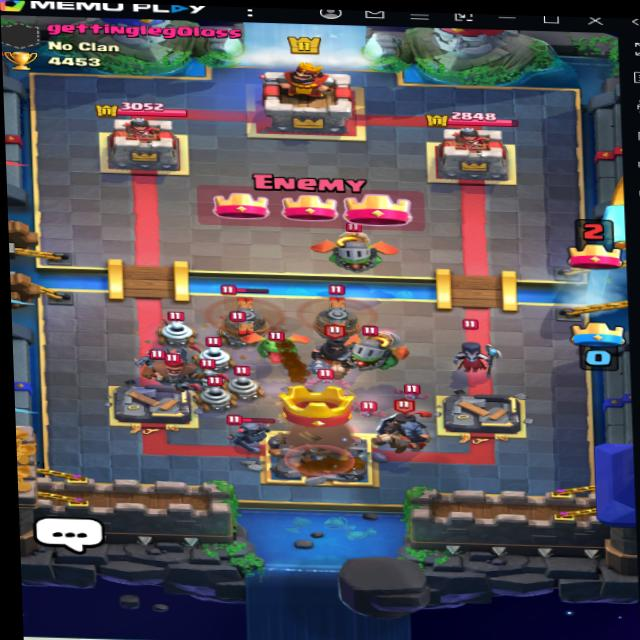baby-dragon: (243, 327, 317, 364)
bats: (348, 390, 384, 418), (306, 373, 340, 393), (391, 386, 426, 403)
dark-prince: (372, 399, 444, 457), (305, 323, 372, 372)
flying-machine: (195, 287, 290, 347), (302, 294, 370, 348)
hunter: (140, 349, 195, 384)
inferno-dragon: (317, 224, 394, 281), (359, 305, 417, 362)
mini-pekka: (222, 413, 278, 446), (129, 345, 184, 370)
night-witch: (449, 331, 505, 378)
zappie: (148, 307, 204, 343), (196, 375, 237, 408), (221, 367, 260, 399), (193, 341, 237, 369)
